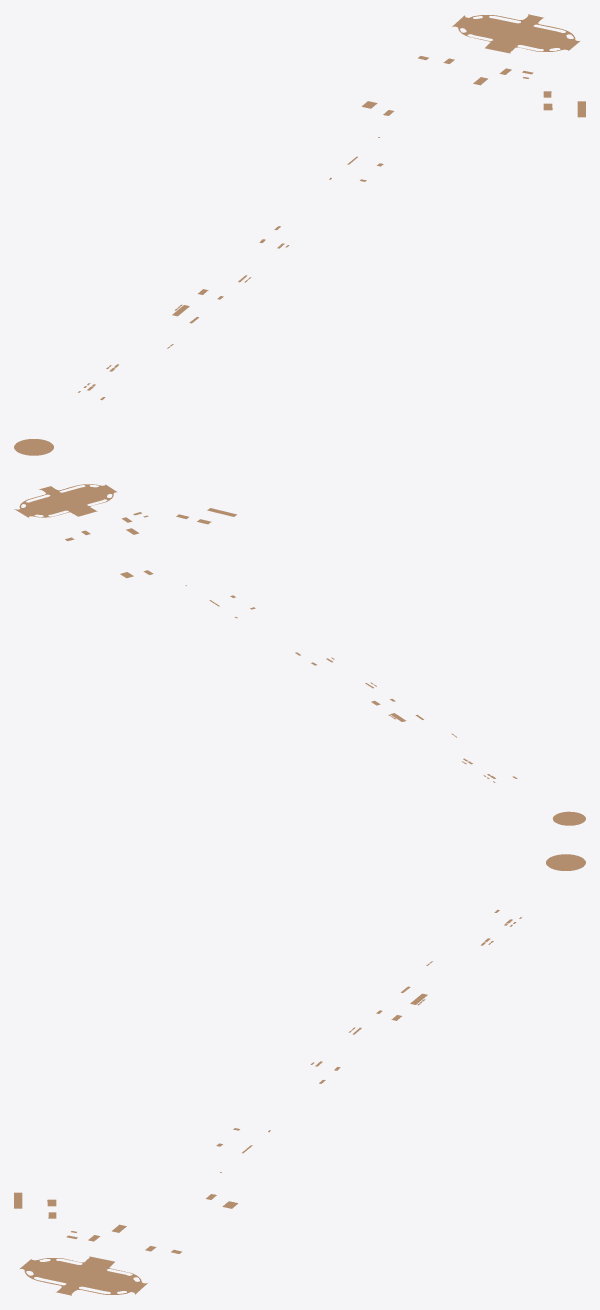
File: culture_after.gltf
3 renders of one model, top to bottom at view 1: azimuth 90°, elevation 25°; view 2: azimuth 150°, elevation 25°; view 3: azimuth 270°, elevation 25°, orthographic. The views are drawn at different scales.
Parts seen in each view (by area): view 1: culture_after; view 2: culture_after; view 3: culture_after.
Boxes of the visible parts, x1=… form: culture_after: x1=14, y1=14, x2=585, y2=455; culture_after: x1=14, y1=484, x2=585, y2=825; culture_after: x1=14, y1=854, x2=585, y2=1295.
Size of the model in its own units: 28.59 by 3.48e-15 by 15.65.
